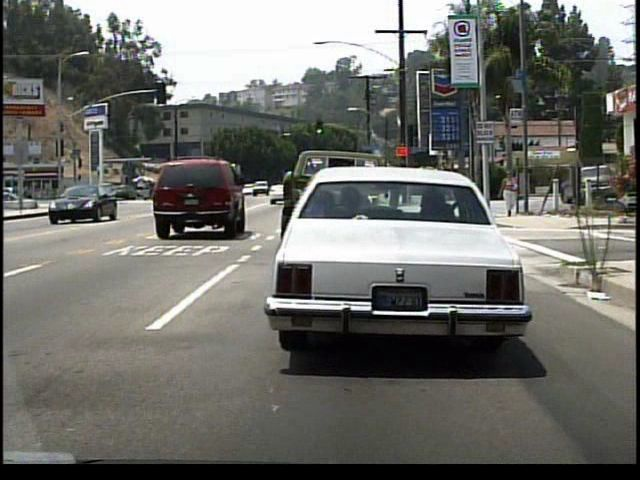person: (503, 169, 521, 220)
